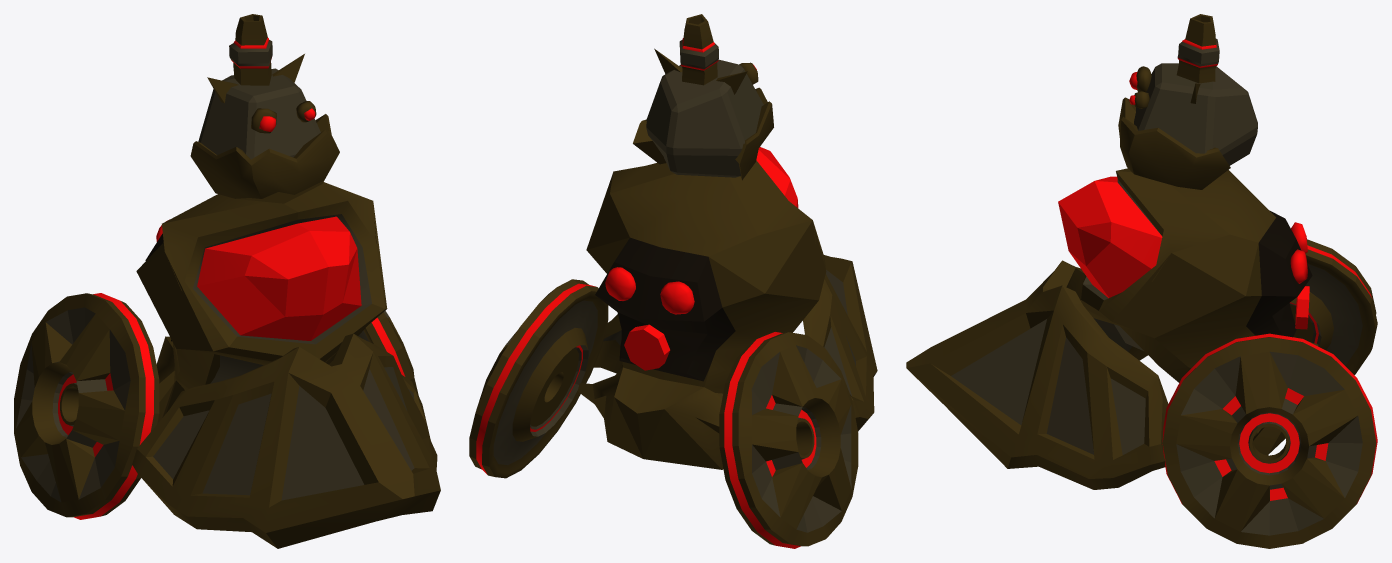
The model's file is Melee.obj.
3 views of the same model, side by side, from view 1: azimuth 30°, elevation 25°; view 2: azimuth 150°, elevation 25°; view 3: azimuth 270°, elevation 25° (orthographic). The views are drawn at different scales.
Visible parts, largest first — view 1: chariot2, body, wheels, Head head_jaw, head_skull Head, Head head_tip, Head ears; view 2: body, wheels, head_skull Head, chariot2, Head head_tip, Head head_jaw, thruster, thruster1, Head ears; view 3: wheels, body, chariot2, head_skull Head, Head head_jaw, Head head_tip, thruster.
Part boxes in pixels (<box>): chariot2: <box>132,333,440,548</box>; body: <box>136,182,387,423</box>; wheels: <box>14,293,418,519</box>; Head head_jaw: <box>190,114,339,203</box>; head_skull Head: <box>198,68,320,159</box>; Head head_tip: <box>229,14,272,85</box>; Head ears: <box>207,54,304,103</box>; body: <box>577,147,826,469</box>; wheels: <box>469,279,858,548</box>; head_skull Head: <box>646,59,763,177</box>; chariot2: <box>593,255,877,431</box>; Head head_tip: <box>679,14,718,85</box>; Head head_jaw: <box>633,87,773,180</box>; thruster: <box>605,267,694,314</box>; thruster1: <box>624,324,670,370</box>; Head ears: <box>654,48,747,94</box>; wheels: <box>1162,239,1377,548</box>; body: <box>1058,168,1318,455</box>; chariot2: <box>906,260,1168,489</box>; head_skull Head: <box>1134,63,1257,165</box>; Head head_jaw: <box>1118,97,1230,189</box>; Head head_tip: <box>1176,14,1219,83</box>; thruster: <box>1290,222,1307,283</box>.
Size of the model in its own units: 12.72 by 17 by 15.86.
